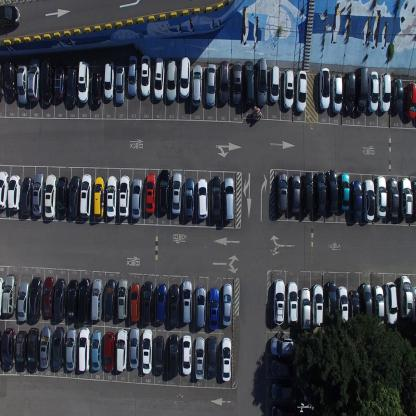car: (397, 274, 413, 318), (1, 274, 17, 316), (40, 57, 54, 105), (28, 275, 42, 322), (272, 278, 286, 325), (398, 176, 413, 219), (326, 167, 340, 213), (27, 57, 41, 102), (2, 327, 16, 371), (384, 281, 398, 325), (65, 326, 78, 372), (27, 327, 40, 373), (242, 60, 255, 106), (78, 276, 90, 325), (79, 173, 92, 218), (39, 324, 52, 369), (158, 168, 170, 216), (256, 58, 268, 106), (356, 66, 368, 114), (68, 175, 81, 219), (31, 172, 44, 216), (115, 328, 128, 372), (53, 278, 66, 322), (77, 60, 90, 104), (360, 282, 373, 326), (362, 178, 375, 222), (325, 280, 337, 327), (314, 170, 326, 217), (56, 176, 69, 219), (178, 56, 191, 99), (118, 174, 130, 220), (52, 326, 64, 372), (336, 286, 348, 332), (286, 280, 298, 326), (271, 380, 296, 402), (20, 175, 33, 217), (53, 59, 67, 98), (350, 180, 363, 222), (220, 337, 232, 382), (93, 175, 105, 220), (44, 174, 56, 219), (141, 328, 153, 373), (90, 276, 102, 321), (66, 278, 78, 323), (78, 326, 90, 371), (223, 176, 235, 220), (131, 176, 143, 220), (142, 280, 154, 324), (116, 276, 128, 320), (153, 56, 165, 100), (205, 63, 217, 107), (372, 284, 384, 328), (299, 286, 311, 330), (387, 177, 399, 221), (374, 175, 386, 219), (302, 170, 314, 214), (0, 3, 21, 28), (7, 174, 21, 211), (210, 174, 221, 221), (206, 335, 218, 378), (155, 282, 167, 325), (104, 277, 116, 320), (14, 329, 26, 372), (17, 63, 29, 106), (171, 170, 182, 216), (218, 59, 229, 105), (208, 288, 220, 330), (103, 331, 115, 373), (17, 280, 29, 322), (191, 64, 203, 106), (282, 68, 294, 110), (318, 67, 330, 109), (338, 170, 350, 212), (276, 172, 288, 214), (270, 336, 295, 356), (195, 285, 206, 330), (168, 333, 179, 378), (169, 283, 180, 328), (106, 174, 117, 219), (144, 173, 156, 214), (330, 73, 342, 114), (379, 72, 391, 113), (194, 336, 205, 380), (197, 177, 208, 221), (91, 328, 102, 372), (166, 59, 177, 103), (344, 71, 355, 115), (312, 284, 323, 328), (270, 358, 294, 378), (348, 289, 360, 329), (154, 334, 165, 377), (66, 65, 77, 108), (140, 54, 151, 97), (290, 172, 301, 215), (4, 61, 16, 100), (43, 276, 54, 318), (127, 54, 138, 96), (295, 70, 306, 112), (182, 278, 192, 324), (103, 59, 114, 100), (129, 324, 139, 369), (222, 282, 232, 326), (184, 177, 194, 221), (232, 60, 242, 104), (269, 64, 280, 104), (405, 81, 416, 121), (182, 334, 192, 376), (130, 281, 140, 323), (368, 70, 378, 112), (91, 71, 102, 109), (392, 77, 403, 114), (115, 64, 125, 104), (0, 169, 9, 211), (269, 405, 295, 415), (0, 276, 5, 317), (411, 284, 416, 325), (412, 179, 416, 220), (0, 63, 4, 101), (0, 330, 2, 368)
